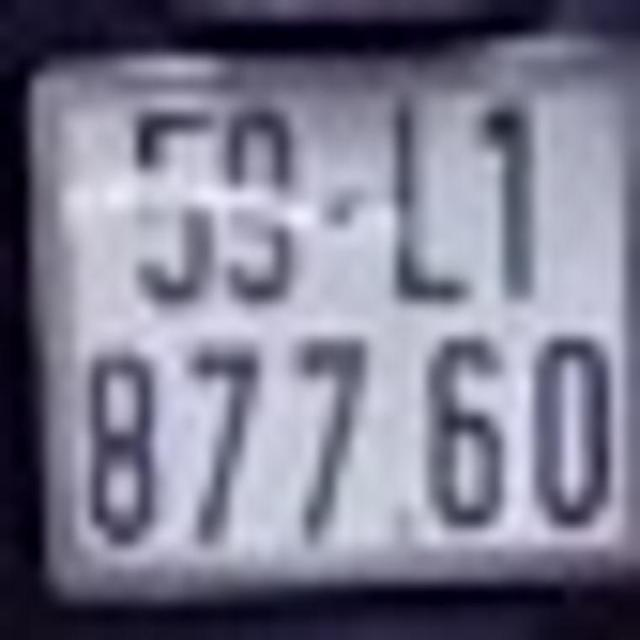0: (524, 321, 616, 529)
1: (481, 100, 539, 303)
5: (131, 102, 212, 300)
6: (419, 324, 512, 530)
7: (280, 328, 378, 546), (183, 329, 260, 546)
8: (86, 340, 158, 548)
9: (217, 103, 298, 300)
L: (380, 86, 472, 300)
